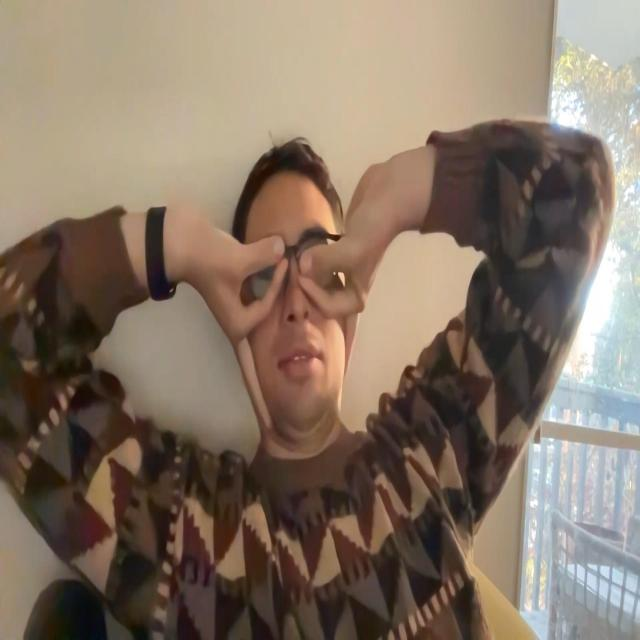face: (243, 175, 344, 437)
